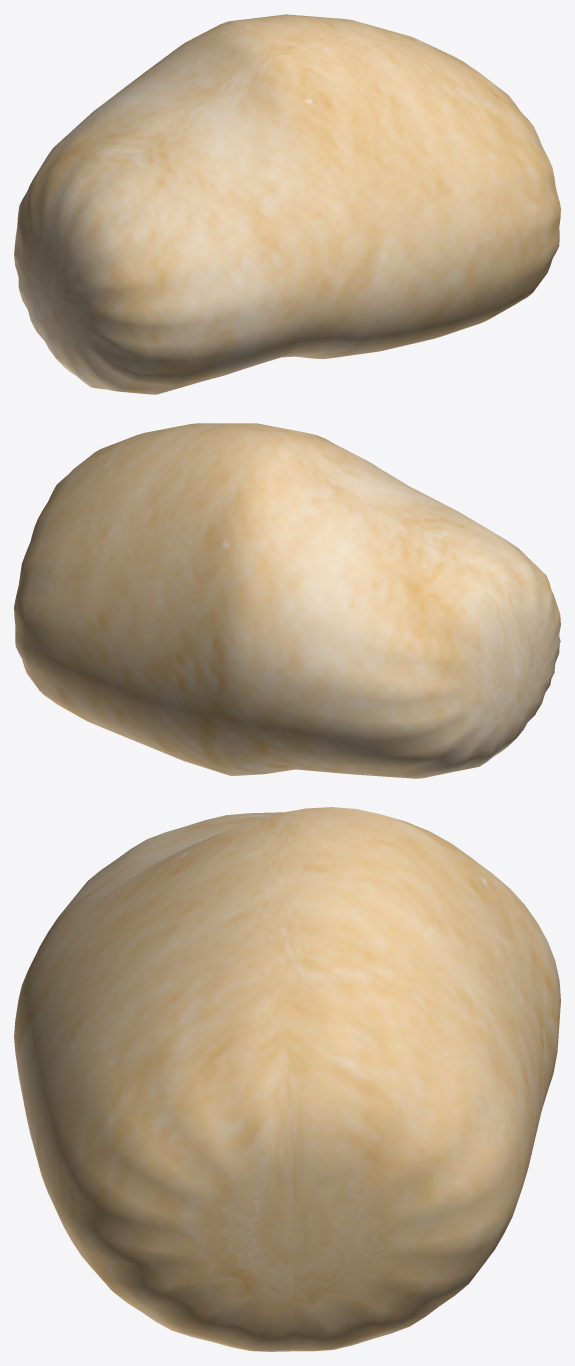
Rendered from CutDough1.fbx.
3 renders of one model, top to bottom at view 1: azimuth 30°, elevation 25°; view 2: azimuth 150°, elevation 25°; view 3: azimuth 270°, elevation 25°, orthographic. The views are drawn at different scales.
Visible parts, largest first — view 1: cut4; view 2: cut4; view 3: cut4.
Boxes of the visible parts, x1,y1,x2,y2 form: cut4: [14, 14, 560, 394]; cut4: [14, 423, 560, 778]; cut4: [14, 807, 560, 1351].
Bounding box in the file's own units: 3.93 × 2.53 × 2.89.
Materials: 1 (1 with a texture image).
